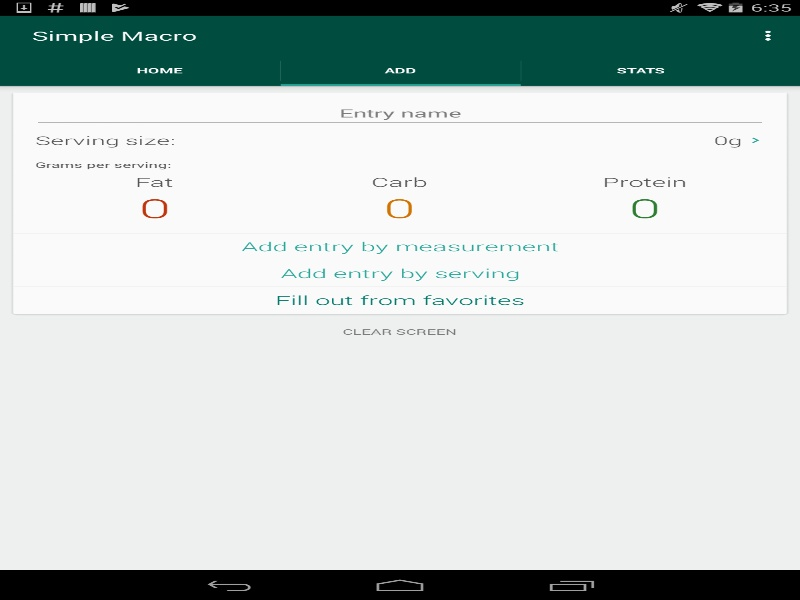Button: (14, 233, 786, 259), (14, 260, 786, 286), (14, 287, 786, 313), (326, 316, 472, 346)
Input: (32, 99, 767, 127)
